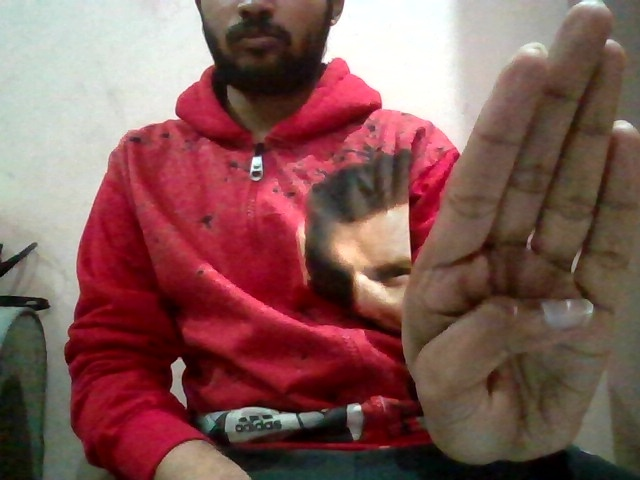B: (387, 1, 640, 468)
